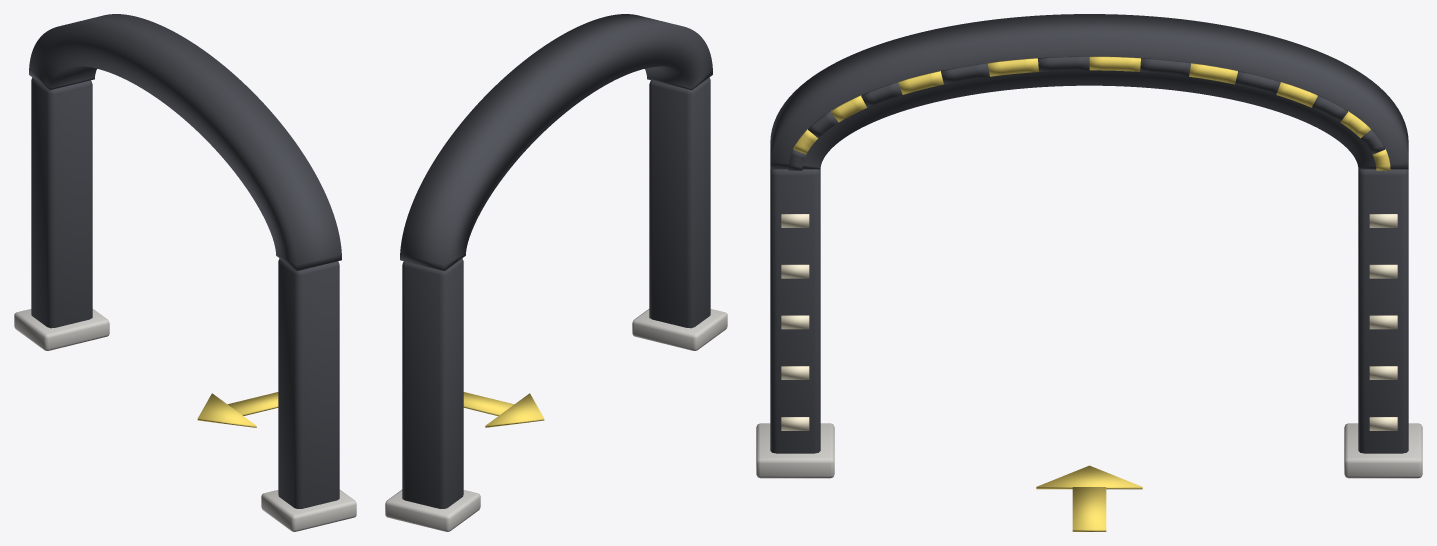
Rendered from PortalGate.fbx.
3 views of the same model, side by side, from view 1: azimuth 30°, elevation 25°; view 2: azimuth 150°, elevation 25°; view 3: azimuth 270°, elevation 25° (orthographic). The views are drawn at different scales.
Parts seen in each view (by area): view 1: Dark.001, Concrete.001, Yellow.001; view 2: Dark.001, Concrete.001, Yellow.001; view 3: Dark.001, Yellow.001, Concrete.001, Glow.001.
Part boxes in pixels (bbox=[...]): Dark.001: bbox=[29, 14, 341, 508]; Concrete.001: bbox=[14, 309, 356, 531]; Yellow.001: bbox=[197, 392, 278, 427]; Dark.001: bbox=[400, 14, 712, 508]; Concrete.001: bbox=[385, 309, 727, 531]; Yellow.001: bbox=[463, 392, 544, 427]; Dark.001: bbox=[770, 14, 1408, 453]; Yellow.001: bbox=[793, 56, 1390, 531]; Concrete.001: bbox=[756, 423, 1422, 478]; Glow.001: bbox=[781, 214, 1397, 430].
Size of the model in its own units: 7.6 by 17.1 by 23.8.
